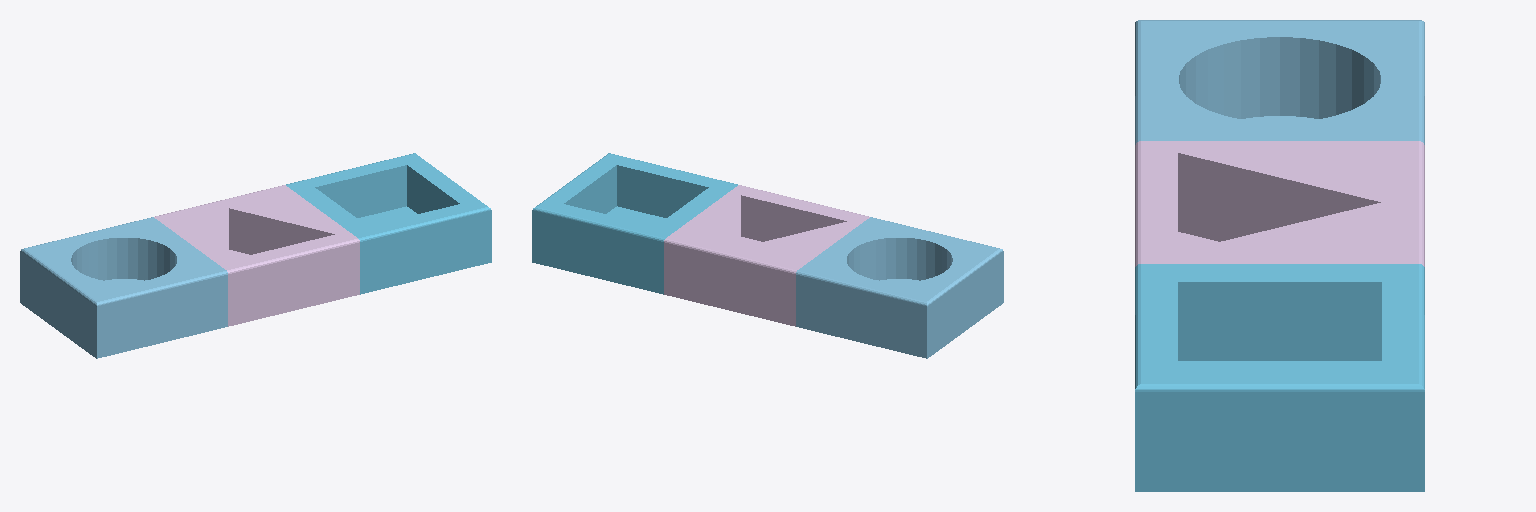
robot.urdf — toy:
<?xml version="1.0" encoding="utf-8"?>
<!-- This URDF was automatically created by SolidWorks to URDF Exporter! Originally created by [author] ([email redacted]) 
     Commit Version: 1.6.0-4-g7f85cfe  Build Version: 1.6.7995.38578
     For more information, please see http://wiki.ros.org/sw_urdf_exporter -->
<robot name="toy">
  <link name="base_link">
    <inertial>
      <origin xyz="0.026537 0.0018105 -0.01684" rpy="0 0 0" />
      <mass value="0.353" />
      <inertia ixx="0.00037032" ixy="1.5579E-21" ixz="-5.6791E-20" iyy="0.00064805" iyz="2.3026E-06" izz="0.00037458" />
    </inertial>
    <visual>
      <origin xyz="0 0 0" rpy="0 0 0" />
      <geometry>
        <mesh filename="package://T170A/meshes/scenario/base_link.STL" />
      </geometry>
      <material name="">
        <color rgba="0.9 0.81961 0.93333 1" />
      </material>
    </visual>
    <collision>
      <origin xyz="0 0 0" rpy="0 0 0" />
      <geometry>
        <mesh filename="package://T170A/meshes/scenario/base_link.STL" />
      </geometry>
    </collision>
  </link>
  <link name="link_1">
    <inertial>
      <origin xyz="6.6363E-08 -0.019037 1.236E-05" rpy="0 0 0" />
      <mass value="0.33603" />
      <inertia ixx="0.00036877" ixy="3.1375E-10" ixz="5.6275E-12" iyy="0.0006443" iyz="8.5343E-08" izz="0.00036863" />
    </inertial>
    <visual>
      <origin xyz="0 0 0" rpy="0 0 0" />
      <geometry>
        <mesh filename="package://T170A/meshes/scenario/link_1.STL" />
      </geometry>
      <material name="">
        <color rgba="0.6 0.81961 0.93333 1" />
      </material>
    </visual>
    <collision>
      <origin xyz="0 0 0" rpy="0 0 0" />
      <geometry>
        <mesh filename="package://T170A/meshes/scenario/link_1.STL" />
      </geometry>
    </collision>
  </link>
  <joint name="joint0" type="fixed">
    <origin xyz="-0.073463 0.01569 -0.017517" rpy="-1.5708 0 -1.5708" />
    <parent link="base_link" />
    <child link="link_1" />
    <axis xyz="0 0 0" />
  </joint>
  <link name="link_2">
    <inertial>
      <origin xyz="6.9989E-08 0.018711 -1.3036E-05" rpy="0 0 0" />
      <mass value="0.31863" />
      <inertia ixx="0.0003593" ixy="-3.2102E-10" ixz="-5.6426E-12" iyy="0.00062927" iyz="8.6696E-08" izz="0.00035916" />
    </inertial>
    <visual>
      <origin xyz="0 0 0" rpy="0 0 0" />
      <geometry>
        <mesh filename="package://T170A/meshes/scenario/link_2.STL" />
      </geometry>
      <material name="">
        <color rgba="0.5 0.81961 0.93333 1" />
      </material>
    </visual>
    <collision>
      <origin xyz="0 0 0" rpy="0 0 0" />
      <geometry>
        <mesh filename="package://T170A/meshes/scenario/link_2.STL" />
      </geometry>
    </collision>
  </link>
  <joint name="joint1" type="fixed">
    <origin xyz="0.12654 0.01569 -0.017517" rpy="1.5708 0 1.5708" />
    <parent link="base_link" />
    <child link="link_2" />
    <axis xyz="0 0 0" />
  </joint>
</robot>

--- Facts derived from the render (not from the file) ---
Views: 3 orthographic renders of the robot side by side, from view 1: azimuth 30°, elevation 25°; view 2: azimuth 150°, elevation 25°; view 3: azimuth 270°, elevation 25°.
Robot: toy — 3 links, 2 joints (2 fixed); root link base_link; default pose: every joint at zero.
Links seen in each view (by area): view 1: link_1, base_link, link_2; view 2: link_1, base_link, link_2; view 3: link_2, base_link, link_1.
Boxes of the visible links, x1,y1,x2,y2 form: link_1: (20, 217, 227, 358); base_link: (154, 185, 359, 326); link_2: (286, 153, 491, 294); link_1: (796, 217, 1003, 358); base_link: (664, 185, 869, 326); link_2: (532, 153, 737, 294); link_2: (1135, 264, 1424, 491); base_link: (1135, 141, 1424, 266); link_1: (1135, 20, 1424, 144).
Bounding box of the posed robot: 0.3 × 0.1 × 0.04 m (x, y, z).
Meshes: 3 distinct files referenced, 3 mesh visuals loaded (3 binary STL).